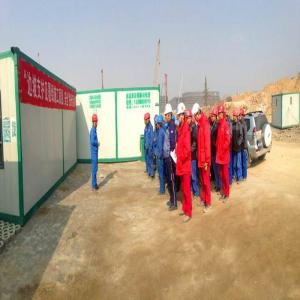blue: (157, 116, 163, 133)
red: (186, 108, 193, 127), (219, 102, 225, 121), (92, 113, 99, 129), (212, 109, 219, 124), (146, 111, 152, 126), (233, 108, 239, 123), (240, 109, 245, 124)
white: (193, 102, 203, 124), (165, 102, 173, 124)
